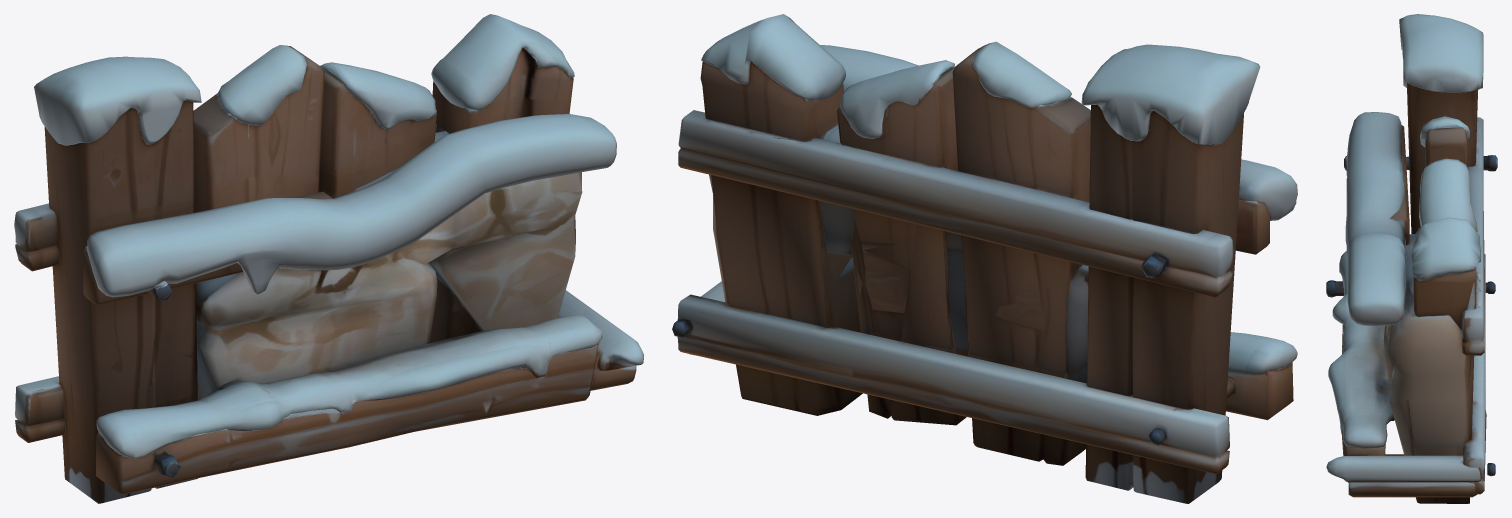
Rendered from selected.glb.
3 views of the same model, side by side, from view 1: azimuth 30°, elevation 25°; view 2: azimuth 150°, elevation 25°; view 3: azimuth 270°, elevation 25° (orthographic). The views are drawn at different scales.
Visible parts, largest first — view 1: tripo_node_4a739660-9690-42f1-8924-39559a3ede19; view 2: tripo_node_4a739660-9690-42f1-8924-39559a3ede19; view 3: tripo_node_4a739660-9690-42f1-8924-39559a3ede19.
Part boxes in pixels (x1,y1,x2,y2): tripo_node_4a739660-9690-42f1-8924-39559a3ede19: [14, 14, 643, 503]; tripo_node_4a739660-9690-42f1-8924-39559a3ede19: [672, 14, 1297, 503]; tripo_node_4a739660-9690-42f1-8924-39559a3ede19: [1326, 14, 1497, 503].
Bounding box in the file's own units: 0.998 × 0.752 × 0.3613.
1 material, 1 textured.
